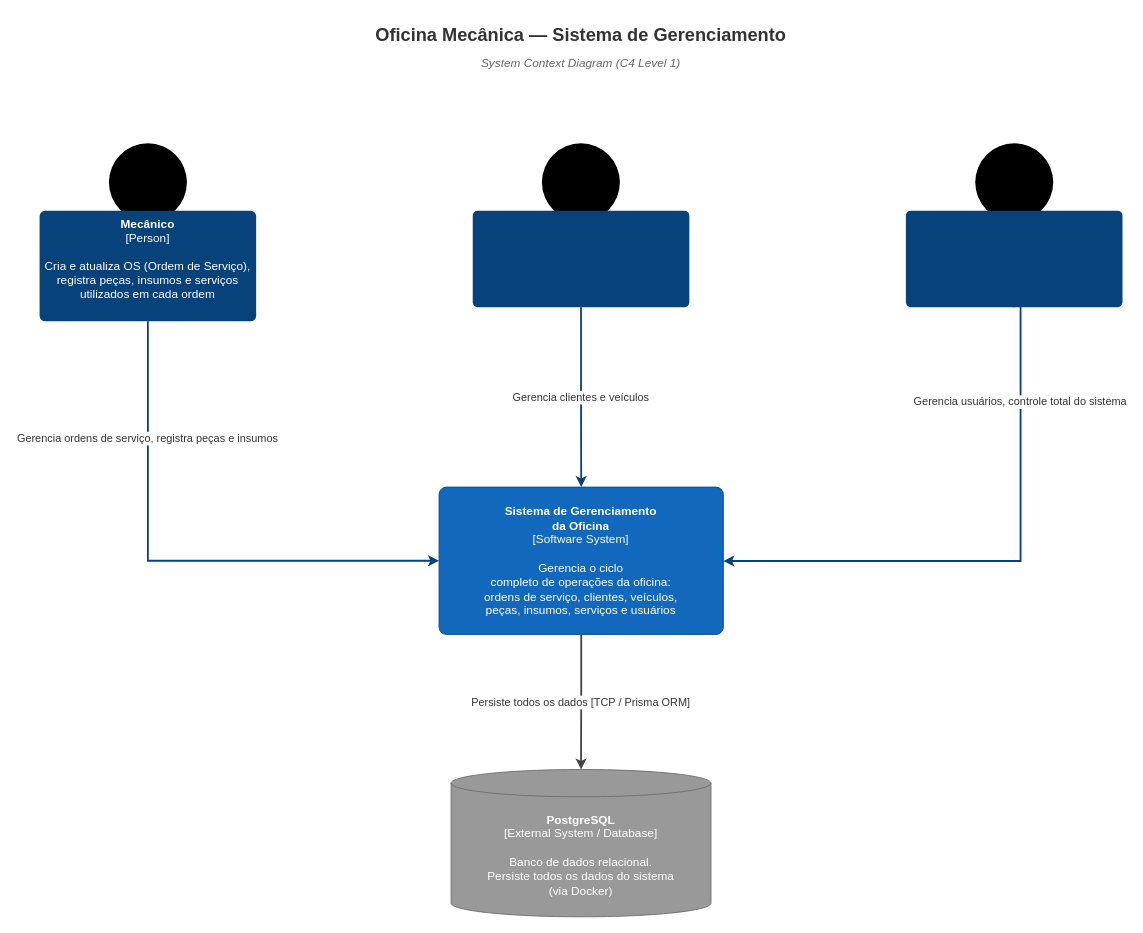
The diagram is 1143 pixels wide and 933 high, and some of its shapes have lost their labels. The centre of each missing label's shape, as x and y in pixels:
"Administrador [Person] Acesso completo ao sistema, gerenciamento de usuários" goes at point 1013,258.
"Funcionário [Person] Gerencia clientes e veículos, operações gerais da oficina" goes at point 580,258.
